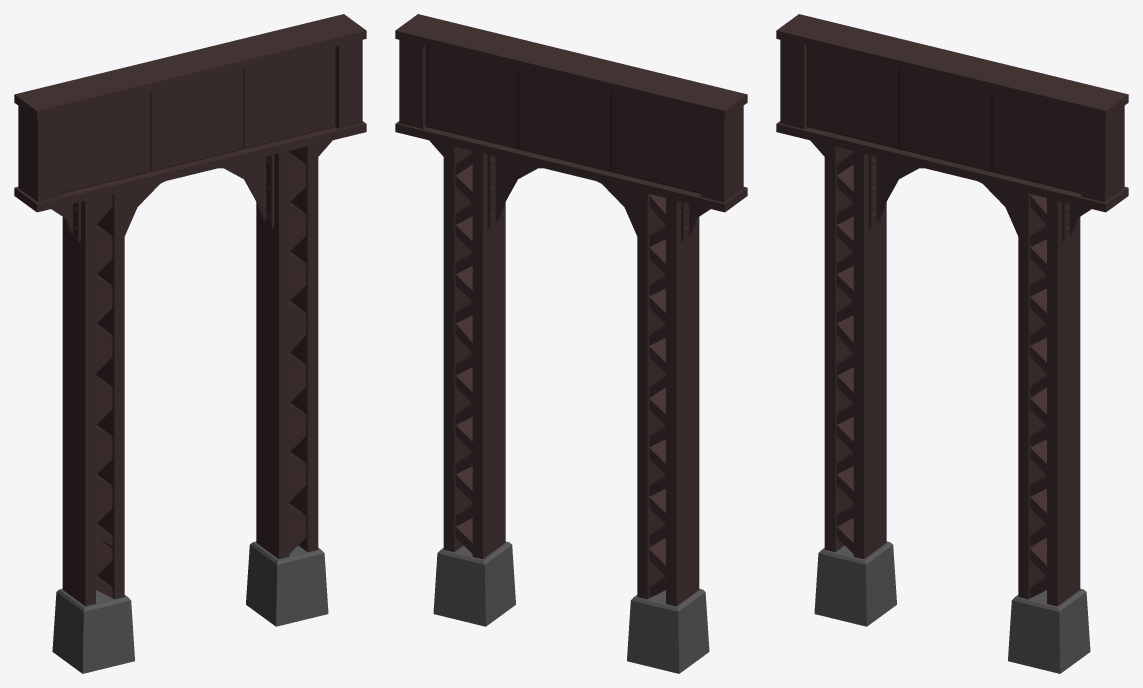
The model's file is SW_ENV_EL_TrackSupport_Single.fbx.
The picture shows the model from 3 angles, left to right: view 1: azimuth 30°, elevation 25°; view 2: azimuth 150°, elevation 25°; view 3: azimuth 330°, elevation 25°; orthographic projection.
Parts seen in each view (by area): view 1: SW_ENV_EL_TrackSupport_Single; view 2: SW_ENV_EL_TrackSupport_Single; view 3: SW_ENV_EL_TrackSupport_Single.
Part boxes in pixels (<box>): SW_ENV_EL_TrackSupport_Single: <box>14,14,366,673</box>; SW_ENV_EL_TrackSupport_Single: <box>395,14,747,673</box>; SW_ENV_EL_TrackSupport_Single: <box>776,14,1128,673</box>.
Bounding box in the file's own units: 629 × 1040 × 100.
